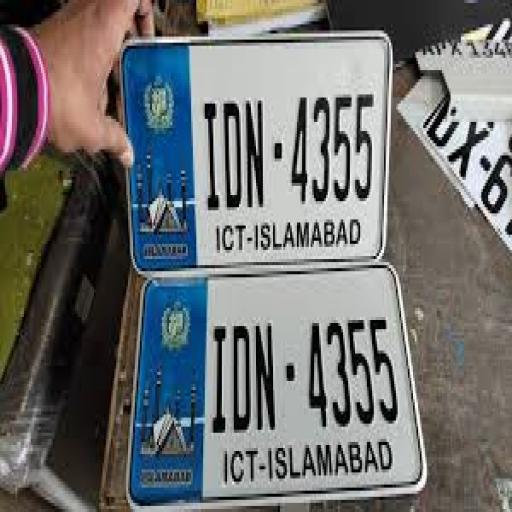3: (326, 314, 350, 436), (310, 89, 333, 213)
4: (304, 325, 326, 430), (294, 93, 312, 206)
5: (372, 308, 407, 424), (352, 91, 377, 202), (350, 310, 372, 432), (334, 93, 348, 198)
D: (232, 313, 253, 438), (223, 99, 240, 217)
I: (200, 100, 219, 216), (211, 317, 229, 438)
N: (253, 309, 278, 438), (241, 96, 269, 211)
